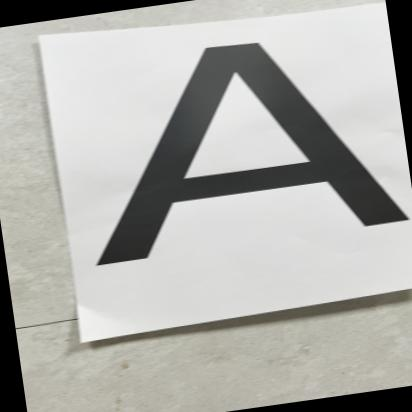seat: (86, 34, 412, 315)
